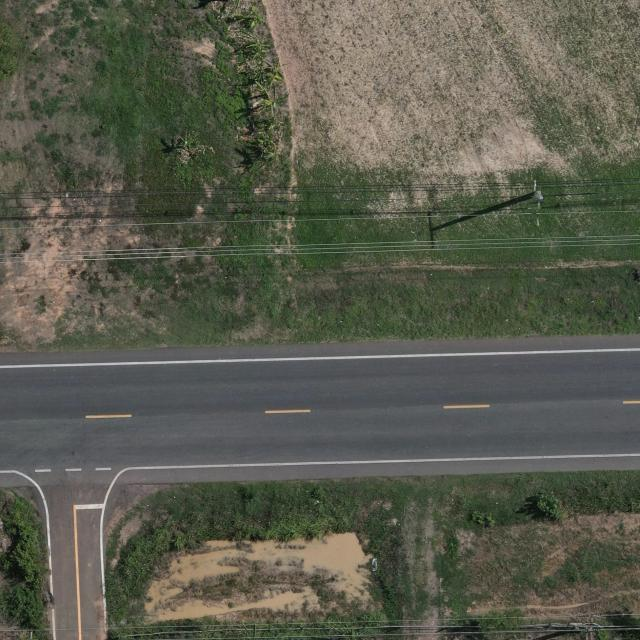Tree: (252, 82, 289, 118), (245, 55, 291, 83), (234, 4, 264, 28), (255, 131, 277, 162), (534, 490, 560, 516), (244, 37, 270, 59), (214, 0, 256, 13), (261, 110, 284, 132), (175, 130, 197, 152)
